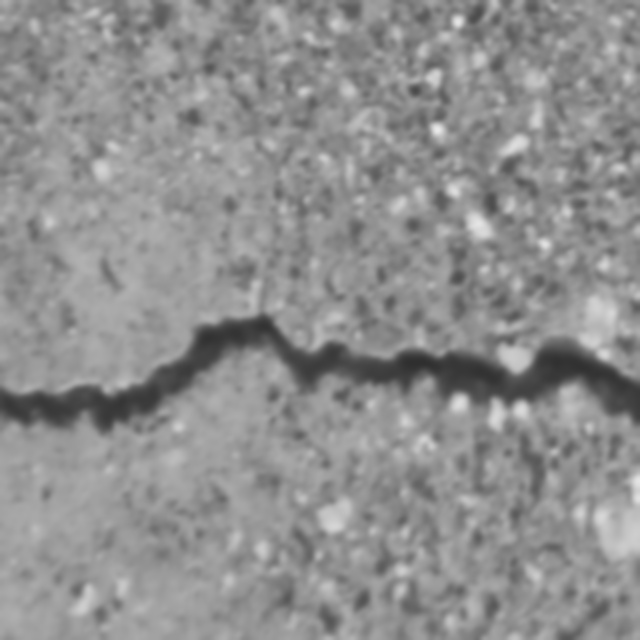SurfaceCrack: (1, 257, 640, 492)
